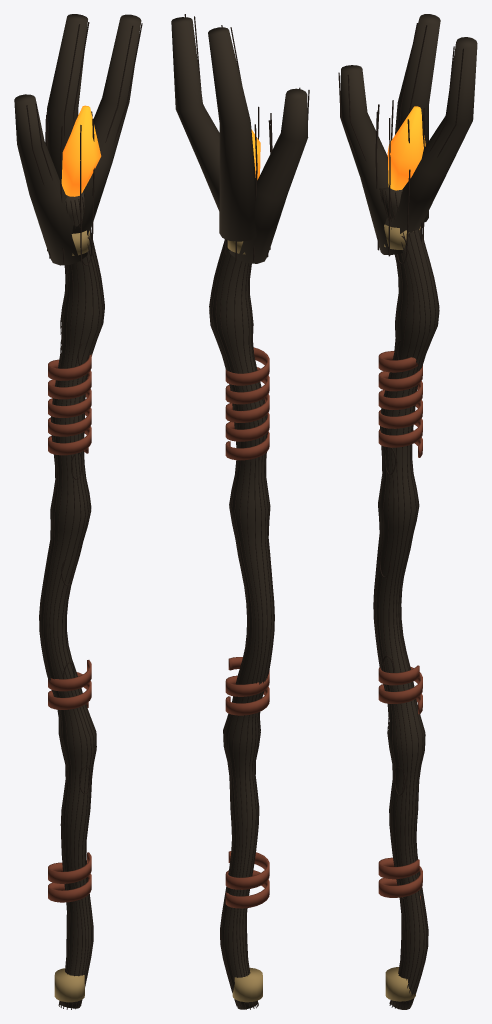
Rendered from WM-05-ember-staff.glb.
3 views of the same model, side by side, from view 1: azimuth 30°, elevation 25°; view 2: azimuth 150°, elevation 25°; view 3: azimuth 330°, elevation 25° (orthographic).
Parts seen in each view (by area): view 1: WM-05_Solid_wood_shaft.001, WM-05_Long_carved_grain.001, WM-05_Fork_branch_0.001, WM-05_Fork_branch_1.001, WM-05_Fork_branch_2.001, WM-05_Helical_grip.003, WM05_Recessed_ember.001, WM-05_Helical_grip.005, WM-05_Helical_grip.004, WM-05_Metal_ferrule.002, WM-05_Metal_ferrule.003; view 2: WM-05_Solid_wood_shaft.001, WM-05_Long_carved_grain.001, WM-05_Fork_branch_2.001, WM-05_Fork_branch_0.001, WM-05_Fork_branch_1.001, WM-05_Helical_grip.003, WM-05_Helical_grip.005, WM-05_Helical_grip.004, WM-05_Metal_ferrule.002; view 3: WM-05_Solid_wood_shaft.001, WM-05_Long_carved_grain.001, WM-05_Fork_branch_1.001, WM-05_Fork_branch_0.001, WM-05_Helical_grip.003, WM-05_Fork_branch_2.001, WM05_Recessed_ember.001, WM-05_Helical_grip.005, WM-05_Helical_grip.004, WM-05_Metal_ferrule.002, WM-05_Metal_ferrule.003.
Part boxes in pixels (x1,y1,x2,y2): WM-05_Solid_wood_shaft.001: (40,192,103,1008); WM-05_Long_carved_grain.001: (39,194,104,1009); WM-05_Fork_branch_0.001: (14,94,87,265); WM-05_Fork_branch_1.001: (72,14,141,235); WM-05_Fork_branch_2.001: (46,14,87,180); WM-05_Helical_grip.003: (48,354,91,455); WM05_Recessed_ember.001: (61,105,101,196); WM-05_Helical_grip.005: (48,852,91,902); WM-05_Helical_grip.004: (48,660,91,709); WM-05_Metal_ferrule.002: (54,968,84,1002); WM-05_Metal_ferrule.003: (71,230,89,255); WM-05_Solid_wood_shaft.001: (210,239,273,1009); WM-05_Long_carved_grain.001: (209,240,274,1009); WM-05_Fork_branch_2.001: (208,27,256,241); WM-05_Fork_branch_0.001: (229,88,308,263); WM-05_Fork_branch_1.001: (171,17,219,211); WM-05_Helical_grip.003: (225,347,269,460); WM-05_Helical_grip.005: (225,851,269,908); WM-05_Helical_grip.004: (225,657,269,715); WM-05_Metal_ferrule.002: (232,967,262,1002); WM-05_Solid_wood_shaft.001: (374,187,438,1009); WM-05_Long_carved_grain.001: (373,188,439,1009); WM-05_Fork_branch_1.001: (385,37,477,233); WM-05_Fork_branch_0.001: (340,65,402,255); WM-05_Helical_grip.003: (378,351,422,457); WM-05_Fork_branch_2.001: (395,14,440,222); WM05_Recessed_ember.001: (387,106,425,190); WM-05_Helical_grip.005: (378,857,422,899); WM-05_Helical_grip.004: (378,665,422,714); WM-05_Metal_ferrule.002: (385,967,415,1001); WM-05_Metal_ferrule.003: (384,224,420,249).
Bounding box in the file's own units: 0.1948 × 1.42 × 0.0803.
